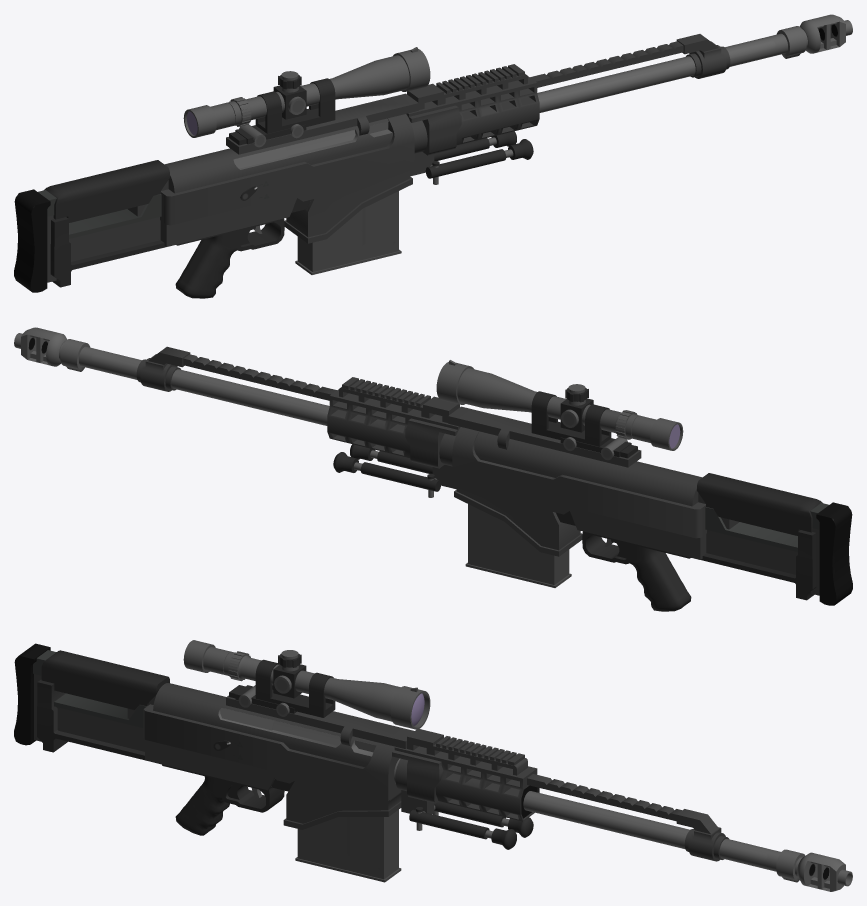
The model's file is gun4.gltf.
The picture shows the model from 3 angles, top to bottom: view 1: azimuth 30°, elevation 25°; view 2: azimuth 150°, elevation 25°; view 3: azimuth 330°, elevation 25°; orthographic projection.
Visible parts, largest first — view 1: Cylinder; view 2: Cylinder; view 3: Cylinder.
Part boxes in pixels (x1,y1,x2,y2): Cylinder: (14,14,852,298); Cylinder: (14,327,852,611); Cylinder: (14,640,852,891).
Bounding box in the file's own units: 552 × 127 × 31.59.
Materials: 9 (9 with a texture image).
